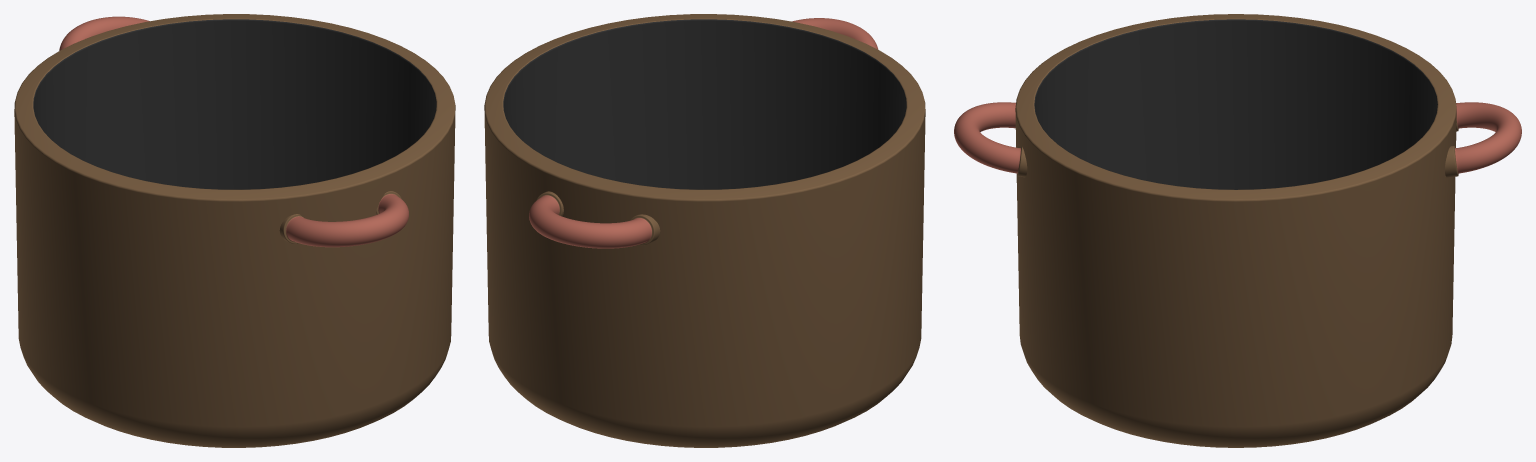
Rendered from SM_Kitchen_Pan_02.fbx.
3 views of the same model, side by side, from view 1: azimuth 30°, elevation 25°; view 2: azimuth 150°, elevation 25°; view 3: azimuth 270°, elevation 25° (orthographic).
Parts seen in each view (by area): view 1: SM_Kitchen_Pan_02; view 2: SM_Kitchen_Pan_02; view 3: SM_Kitchen_Pan_02.
Boxes of the visible parts, x1,y1,x2,y2 form: SM_Kitchen_Pan_02: (14,14,455,447); SM_Kitchen_Pan_02: (484,14,925,447); SM_Kitchen_Pan_02: (954,14,1521,447).
Size of what is drawn, in the model's own units: 44.3 by 29.75 by 57.01.
